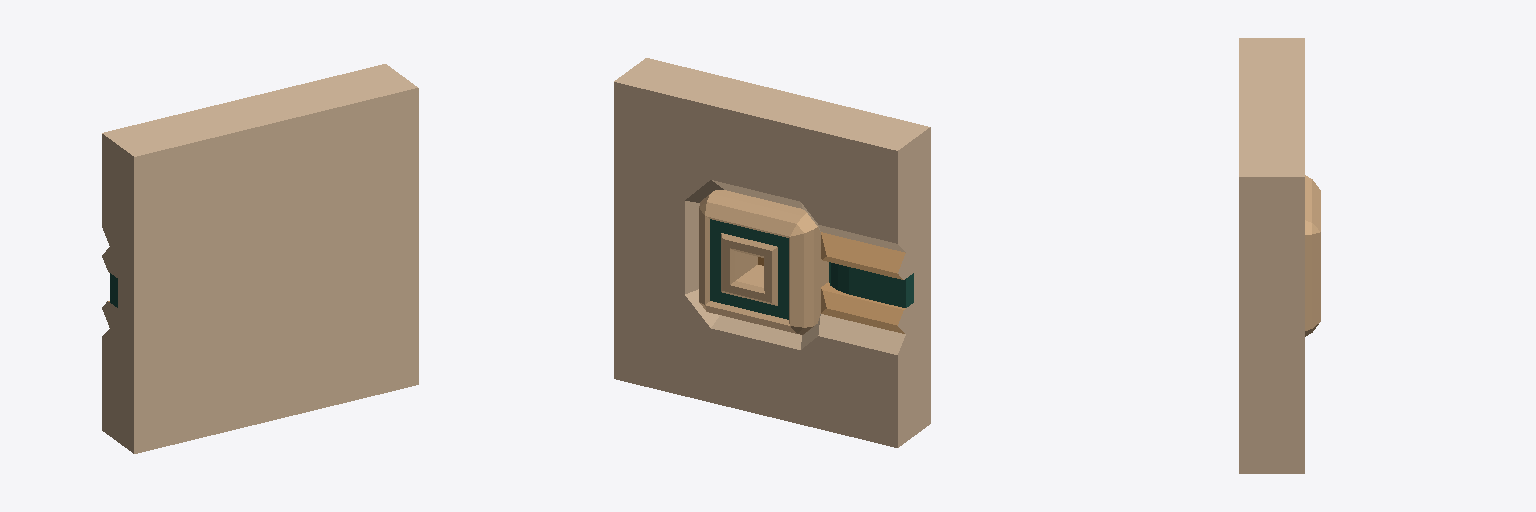
Rendered from Puzzle_Wall_Conduit_Keyhole_End.obj.
The picture shows the model from 3 angles: view 1: azimuth 30°, elevation 25°; view 2: azimuth 150°, elevation 25°; view 3: azimuth 270°, elevation 25°; orthographic projection.
Parts seen in each view (by area): view 1: object3; view 2: object3, object4, object2, object1; view 3: object3, object4.
Boxes of the visible parts, x1,y1,x2,y2 form: object3: [102, 64, 418, 453]; object3: [614, 58, 930, 447]; object4: [699, 190, 828, 334]; object2: [710, 219, 788, 319]; object1: [829, 262, 913, 307]; object3: [1239, 38, 1304, 473]; object4: [1305, 175, 1320, 336].
Size of the model in its own units: 1 by 1 by 0.25.